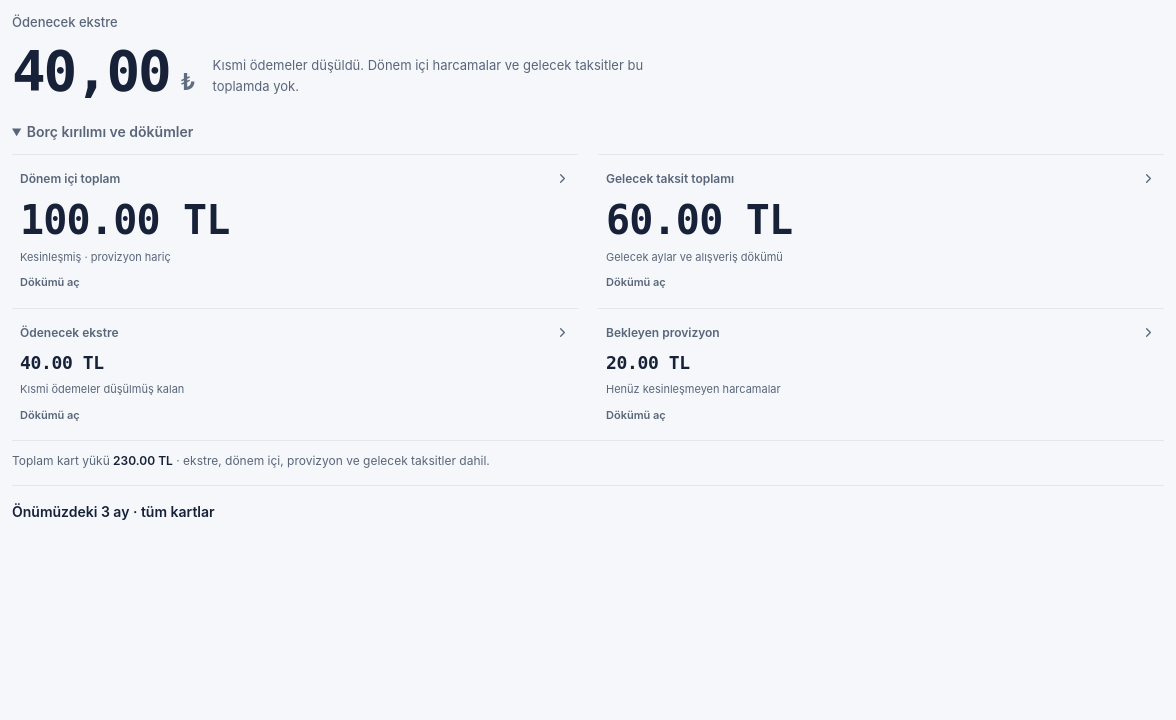
Scenario: kart özeti › seçilen dökümü belirtir, seçim değişince vurguyu taşır ve tekrar dokununca kapatır
Click the button "Dönem içi toplam" at (70, 178), box [12,154,578,308]
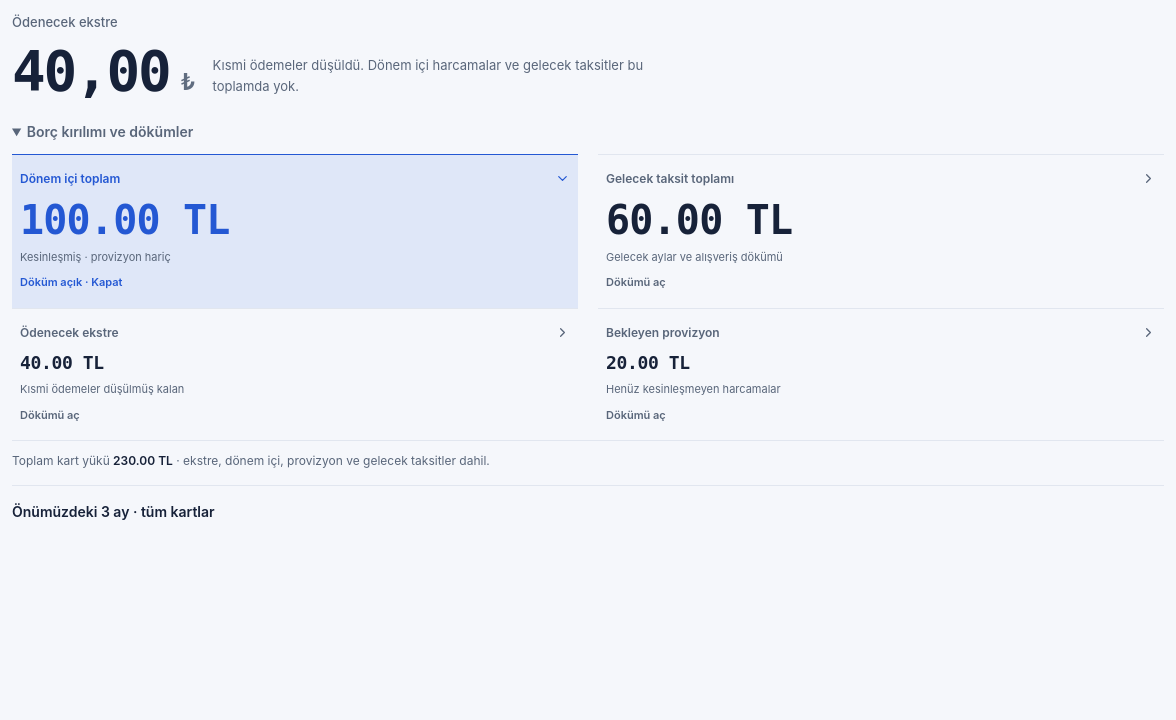
Expected: the text "Döküm açık · Kapat" is shown once, [20,276,122,290]
Expected: the button "Dönem içi toplam" is expanded, [12,154,578,308]
Expected: the text "Döküm açık · Kapat" is shown, [20,276,122,290]
Click the button "Gelecek taksit toplamı" at (670, 178), box [598,154,1164,308]
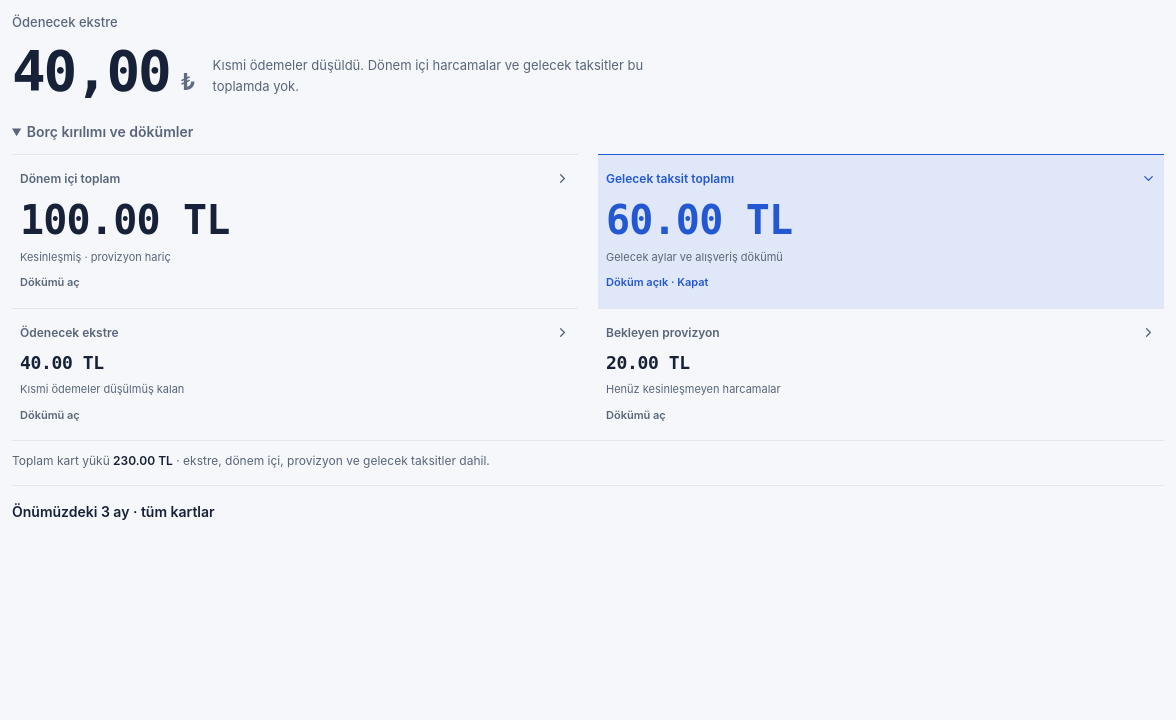
Expected: the text "Döküm açık · Kapat" is shown once, [606,276,708,290]
Expected: the button "Gelecek taksit toplamı" is expanded, [598,154,1164,308]
Expected: the text "Döküm açık · Kapat" is shown, [606,276,708,290]
Click the button "Ödenecek ekstre" at (69, 332), box [12,308,578,440]
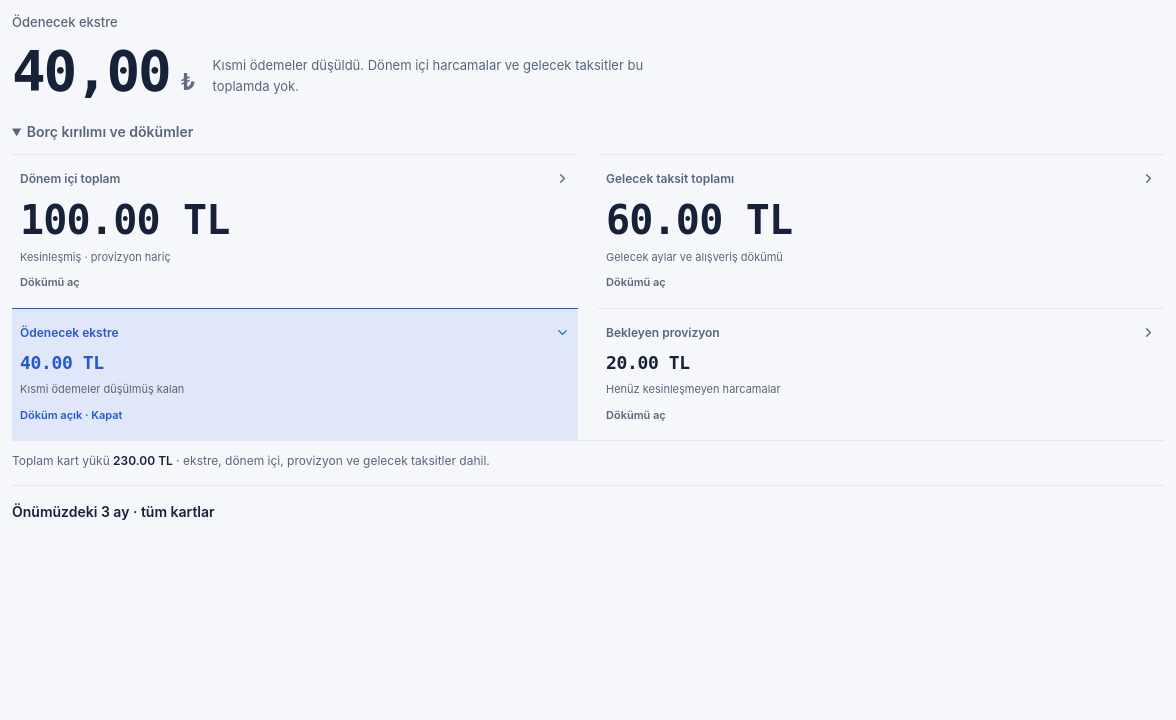
Expected: the text "Döküm açık · Kapat" is shown once, [20,408,122,422]
Expected: the button "Ödenecek ekstre" is expanded, [12,308,578,440]
Expected: the text "Döküm açık · Kapat" is shown, [20,408,122,422]
Click the button "Bekleyen provizyon" at (663, 332), box [598,308,1164,440]
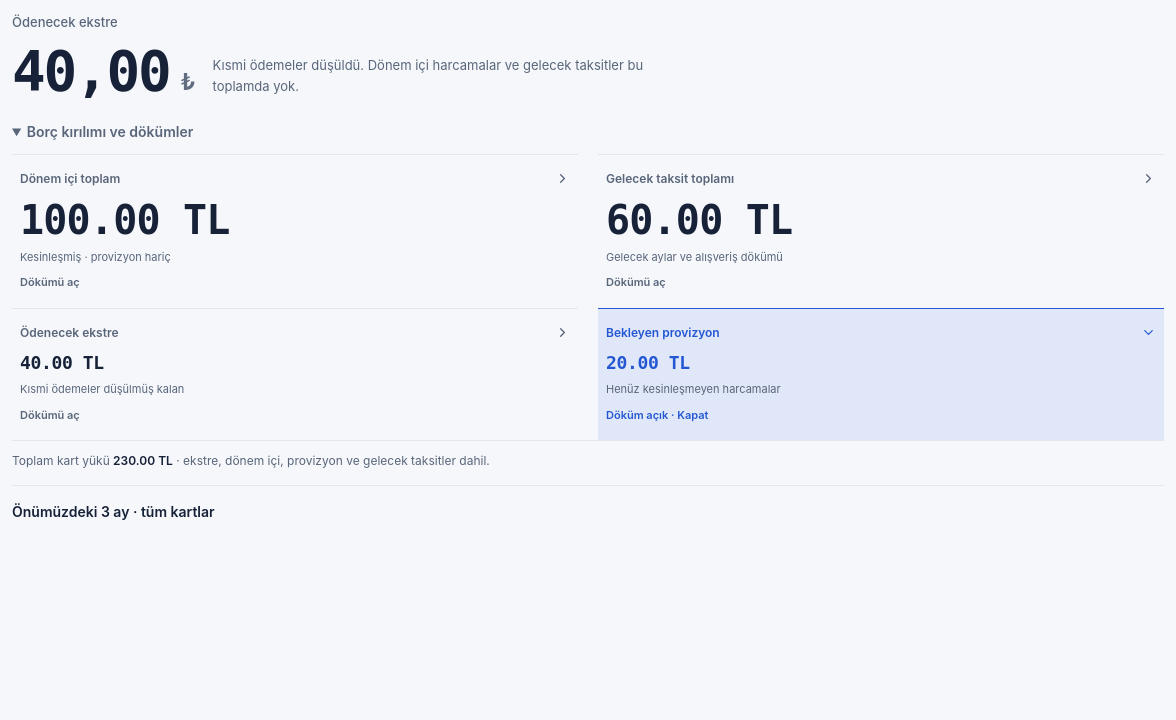
Expected: the text "Döküm açık · Kapat" is shown once, [606,408,708,422]
Expected: the button "Bekleyen provizyon" is expanded
Expected: the text "Döküm açık · Kapat" is shown, [606,408,708,422]
Click the button "Bekleyen provizyon" at (663, 332), box [598,308,1164,440]
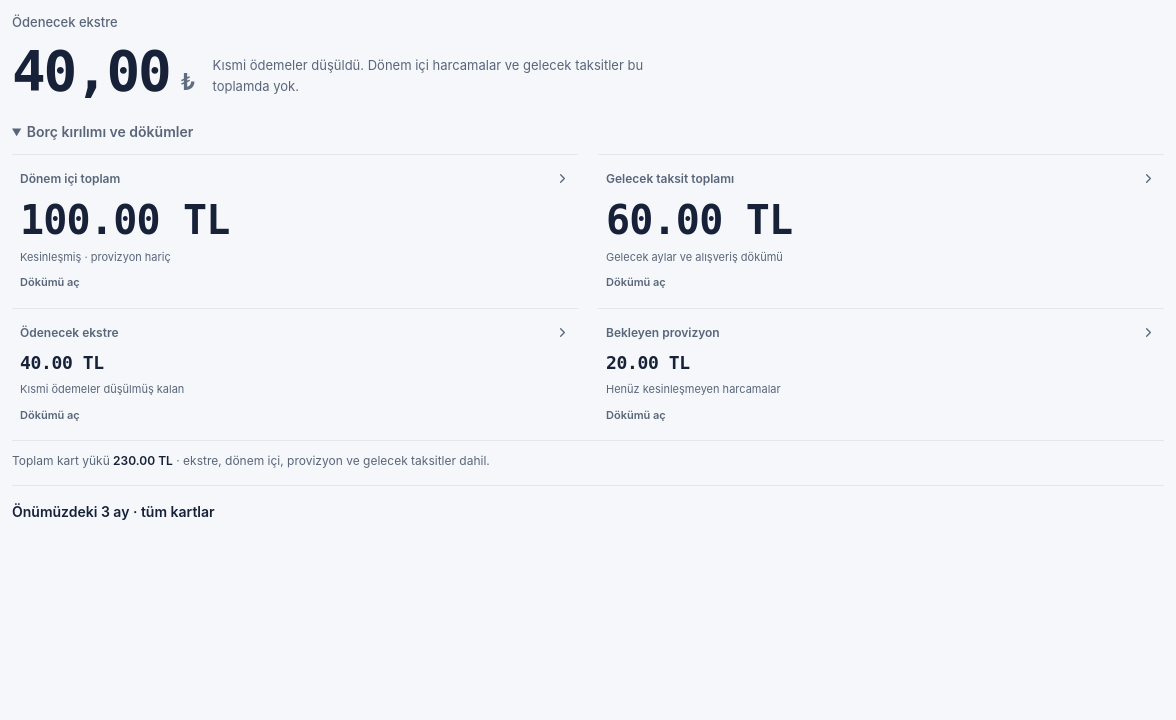
Expected: the button "Bekleyen provizyon" is collapsed, [598,308,1164,440]
Expected: the button "Döküm açık · Kapat" is gone
